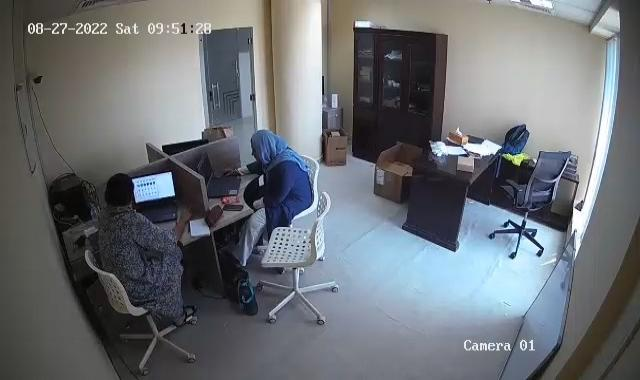no_hairnet: (242, 126, 288, 173), (102, 169, 129, 207)
